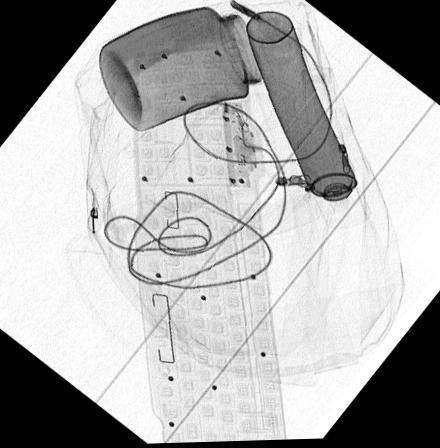Sprayer: (244, 13, 370, 231)
